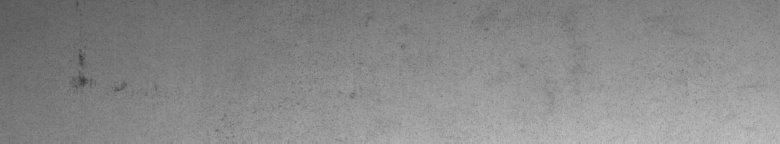ib: (340, 17, 406, 99)
